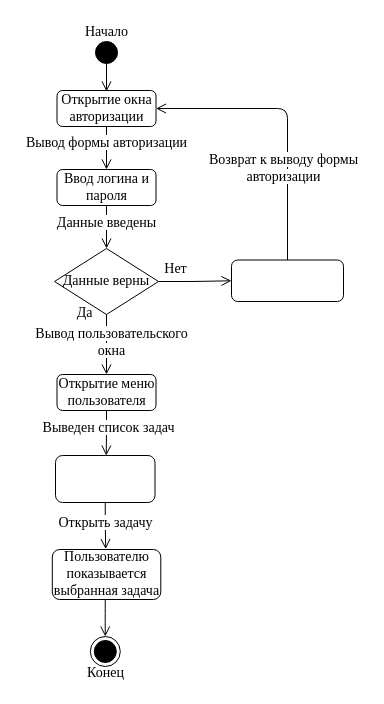
This 384x704 diagram has some shape labels left out. The shapes that lost their labels are listed below. From the top down, each one's centre as x and y in pixels, then its label:
At point (287, 280): "Вывод сообщения об ошибке".
At point (104, 478): "Нажатие для просмотра задачи".
